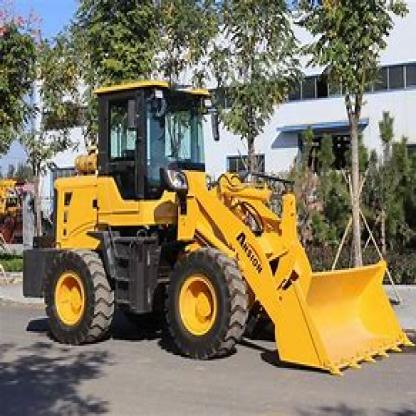bull_dozer/loader/grader: (19, 70, 414, 372)
